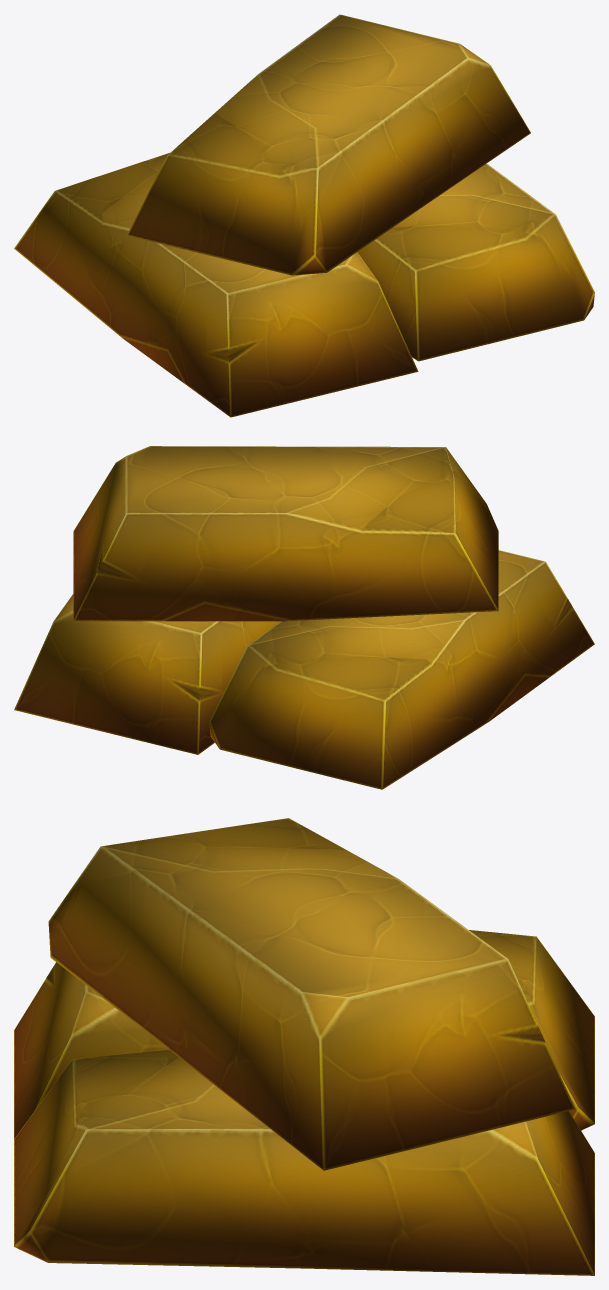
The model's file is Gold-07.fbx.
3 views of the same model, one above another, from view 1: azimuth 30°, elevation 25°; view 2: azimuth 150°, elevation 25°; view 3: azimuth 270°, elevation 25° (orthographic). The views are drawn at different scales.
Parts seen in each view (by area): view 1: Gold-07; view 2: Gold-07; view 3: Gold-07.
Boxes of the visible parts, left/top/right/bottom form: Gold-07: left=14, top=14, right=594, bottom=417; Gold-07: left=14, top=446, right=594, bottom=789; Gold-07: left=14, top=818, right=594, bottom=1275.
Bounding box in the file's own units: 0.1674 × 0.075 × 0.15.
Materials: 1 (1 with a texture image).
